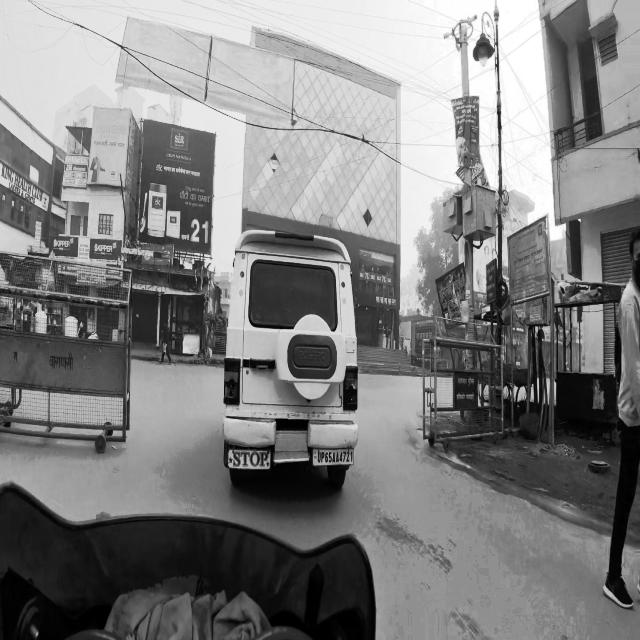Car: (216, 215, 366, 502)
